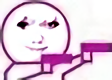dragon: (16, 17, 60, 52)
